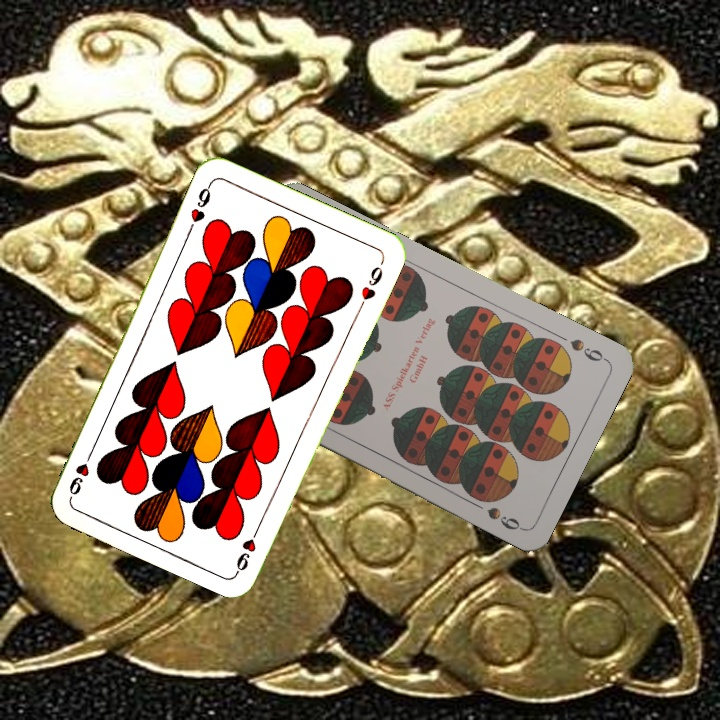H9: (232, 518, 264, 574), (184, 179, 215, 235)
S9: (566, 334, 610, 365)
